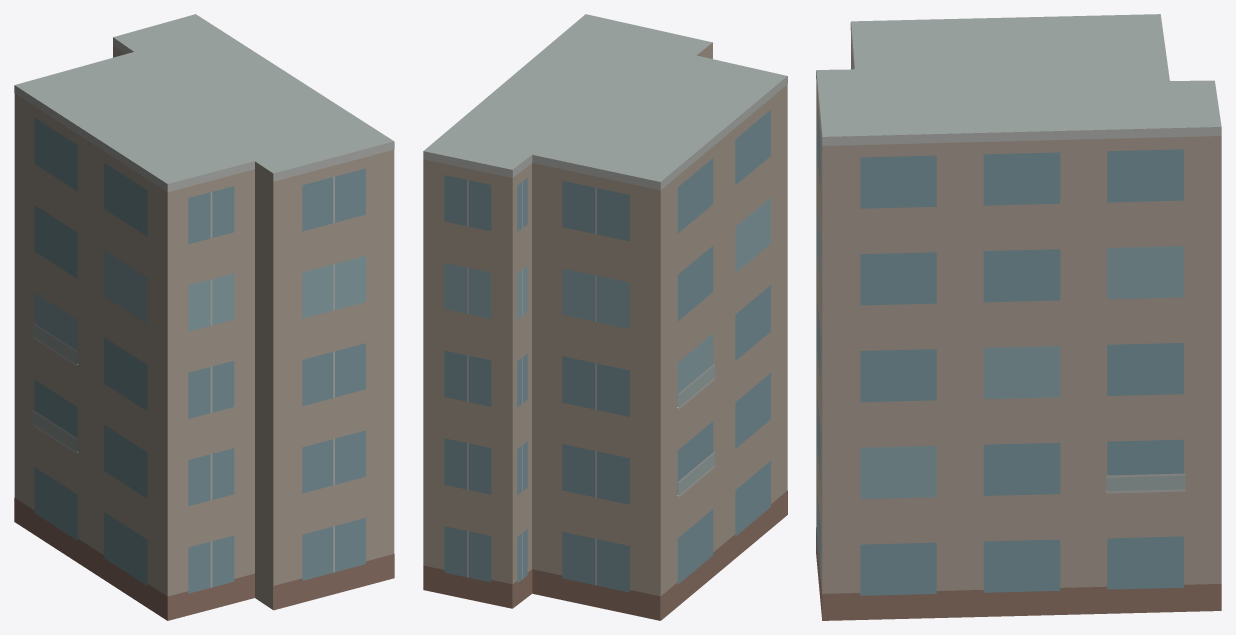
Rendered from survey-upis-32734237.glb.
3 renders of one model, left to right at view 1: azimuth 30°, elevation 25°; view 2: azimuth 150°, elevation 25°; view 3: azimuth 270°, elevation 25°, orthographic. The views are drawn at different scales.
Parts seen in each view (by area): view 1: survey-upis-32734237.tmp; view 2: survey-upis-32734237.tmp; view 3: survey-upis-32734237.tmp.
Boxes of the visible parts, box(x1,y1,x2,y2) form: survey-upis-32734237.tmp: box(14, 14, 394, 620); survey-upis-32734237.tmp: box(423, 14, 787, 620); survey-upis-32734237.tmp: box(816, 14, 1221, 620).
Size of the model in its own units: 7.15 by 13.1 by 9.96.
